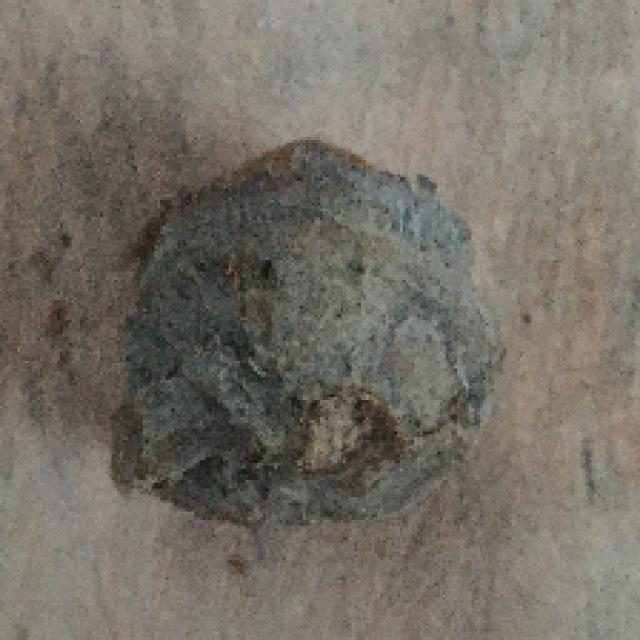damagedHazelnut: (112, 138, 504, 541)
